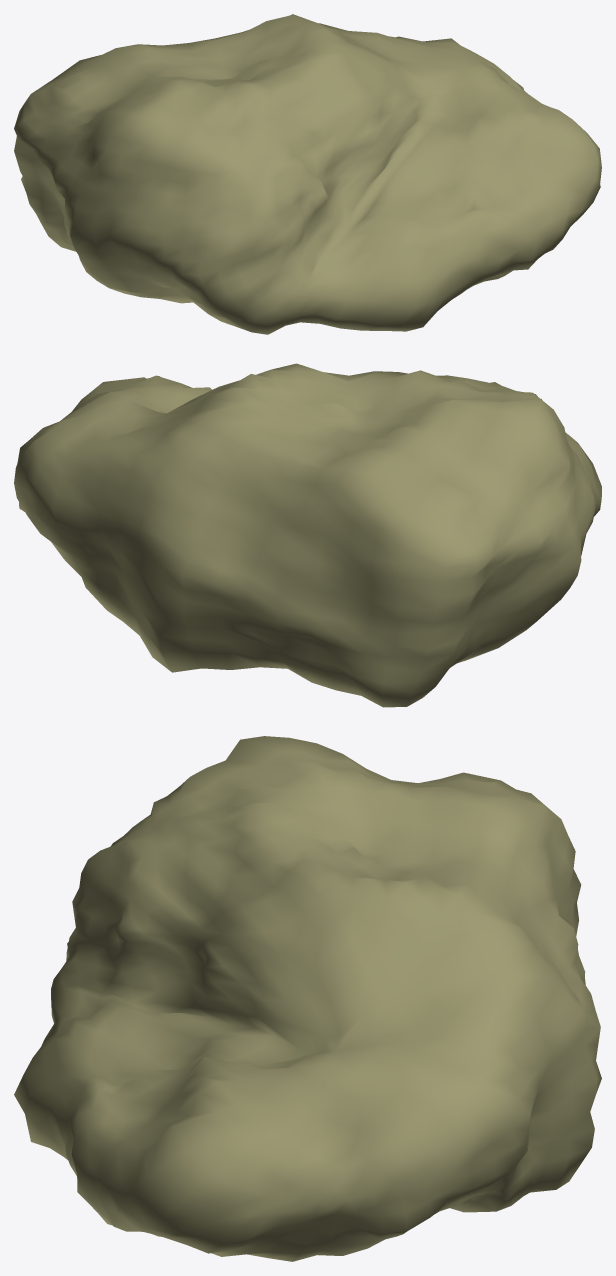
File: rock.fbx
3 views of the same model, one above another, from view 1: azimuth 30°, elevation 25°; view 2: azimuth 150°, elevation 25°; view 3: azimuth 270°, elevation 25° (orthographic). The views are drawn at different scales.
Visible parts, largest first — view 1: rock; view 2: rock; view 3: rock.
Boxes of the visible parts, <box> form: rock: <box>14,14,601,334</box>; rock: <box>14,363,601,707</box>; rock: <box>14,736,601,1261</box>.
Size of the model in its own units: 270 by 123 by 204.
